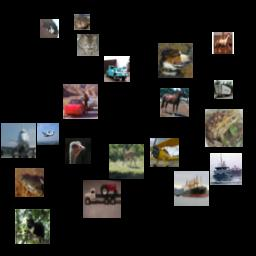airplane: (1, 123, 36, 158), (150, 138, 179, 167), (37, 123, 59, 145)
automobile: (63, 84, 98, 119)
bird: (65, 138, 91, 164)
cat: (15, 209, 50, 244), (77, 34, 99, 56), (40, 19, 59, 38)
deer: (109, 144, 144, 179)
dog: (158, 43, 193, 78)
frog: (205, 109, 243, 147), (15, 168, 44, 197), (74, 14, 90, 30)
ship: (174, 171, 209, 206), (210, 153, 242, 185)
truck: (83, 180, 121, 218), (104, 56, 130, 82), (214, 80, 233, 99)
